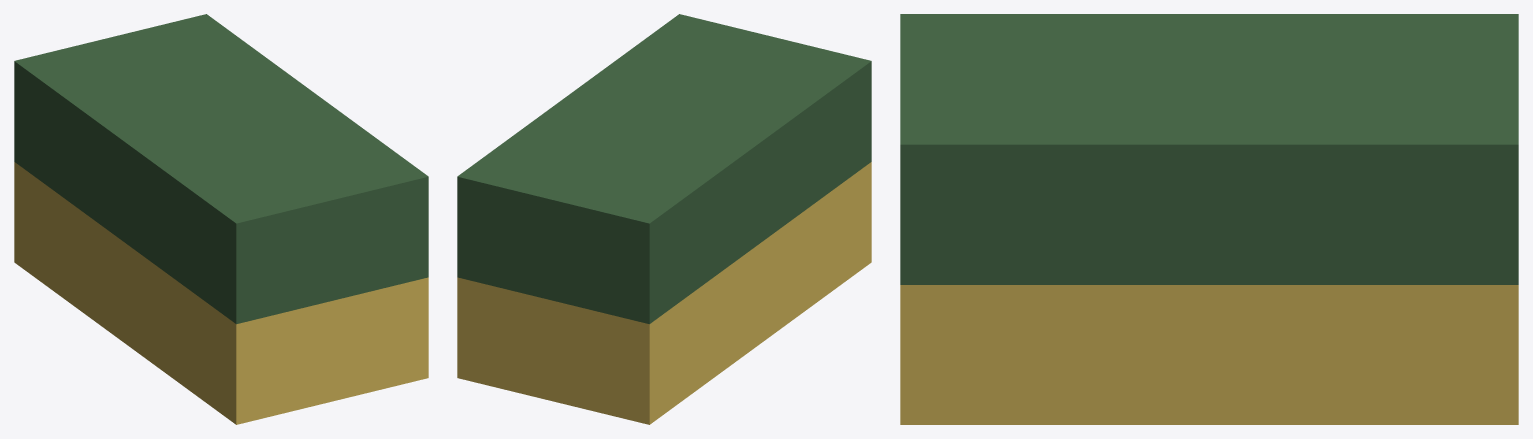
File: Sponge.obj
3 views of the same model, side by side, from view 1: azimuth 30°, elevation 25°; view 2: azimuth 150°, elevation 25°; view 3: azimuth 270°, elevation 25° (orthographic). The views are drawn at different scales.
Parts seen in each view (by area): view 1: Sponge; view 2: Sponge; view 3: Sponge.
Part boxes in pixels (x1,y1,x2,y2): Sponge: (14, 14, 428, 424); Sponge: (457, 14, 871, 424); Sponge: (900, 14, 1518, 424).
Bounding box in the file's own units: 2 × 2 × 4.
Materials: 1 (1 with a texture image).
